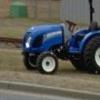Tractor: (17, 11, 100, 79)
